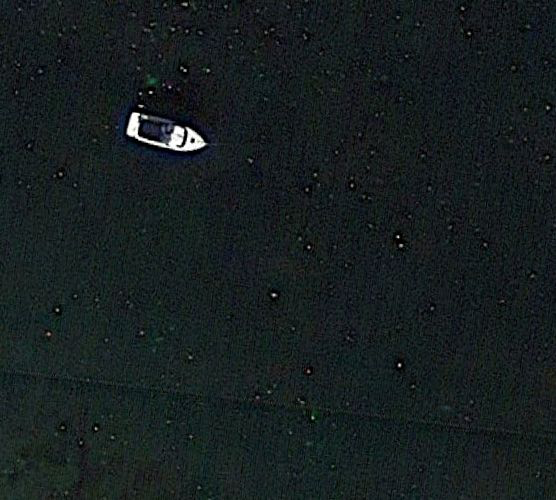boat: (125, 111, 209, 156)
